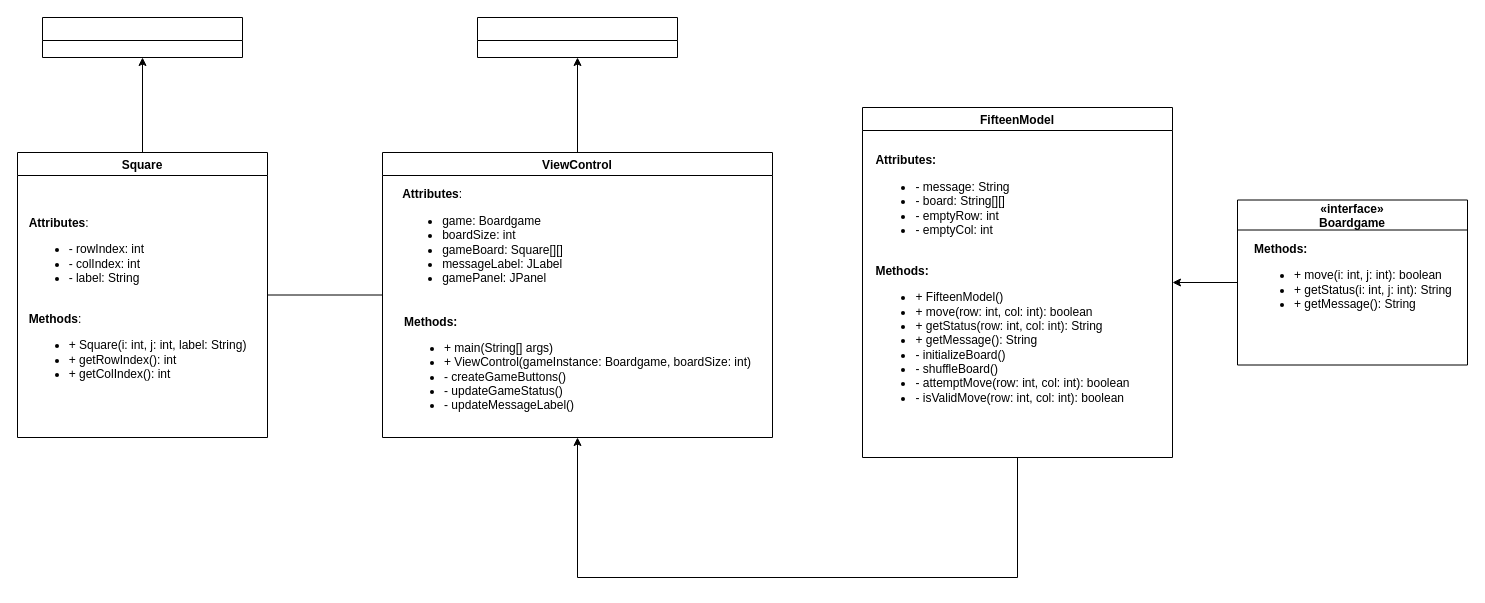
This 1485x603 diagram has some shape labels left out. Each missing label, with the centre of its shape:
JButton: pixel 142 37
JFrame: pixel 577 37
